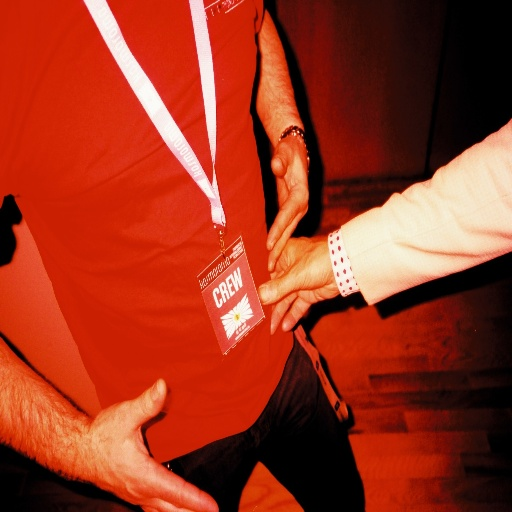hand: (77, 379, 217, 511), (256, 233, 341, 332), (263, 131, 310, 273)
